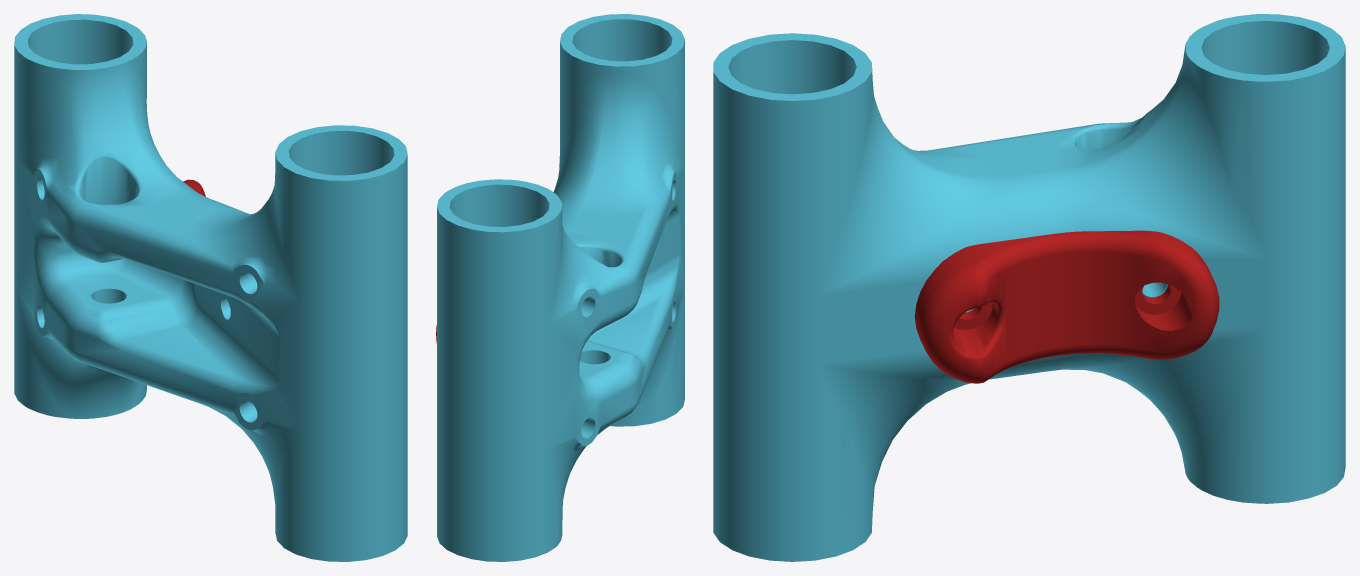
File: right_knee_linkage.obj
3 renders of one model, left to right at view 1: azimuth 30°, elevation 25°; view 2: azimuth 150°, elevation 25°; view 3: azimuth 270°, elevation 25°, orthographic. The views are drawn at different scales.
Parts seen in each view (by area): view 1: stitch_result_stitch_all; view 2: stitch_result_stitch_all; view 3: stitch_result_stitch_all.
Part boxes in pixels (x1,y1,x2,y2): stitch_result_stitch_all: (14,14,407,561); stitch_result_stitch_all: (436,14,684,561); stitch_result_stitch_all: (713,14,1345,561).
Bounding box in the file's own units: 0.0542 × 0.095 × 0.1181.
